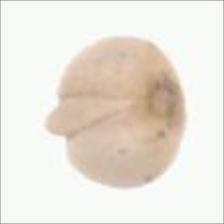L5: (43, 92, 138, 137), (141, 70, 186, 131)
L6: (42, 35, 186, 191)
